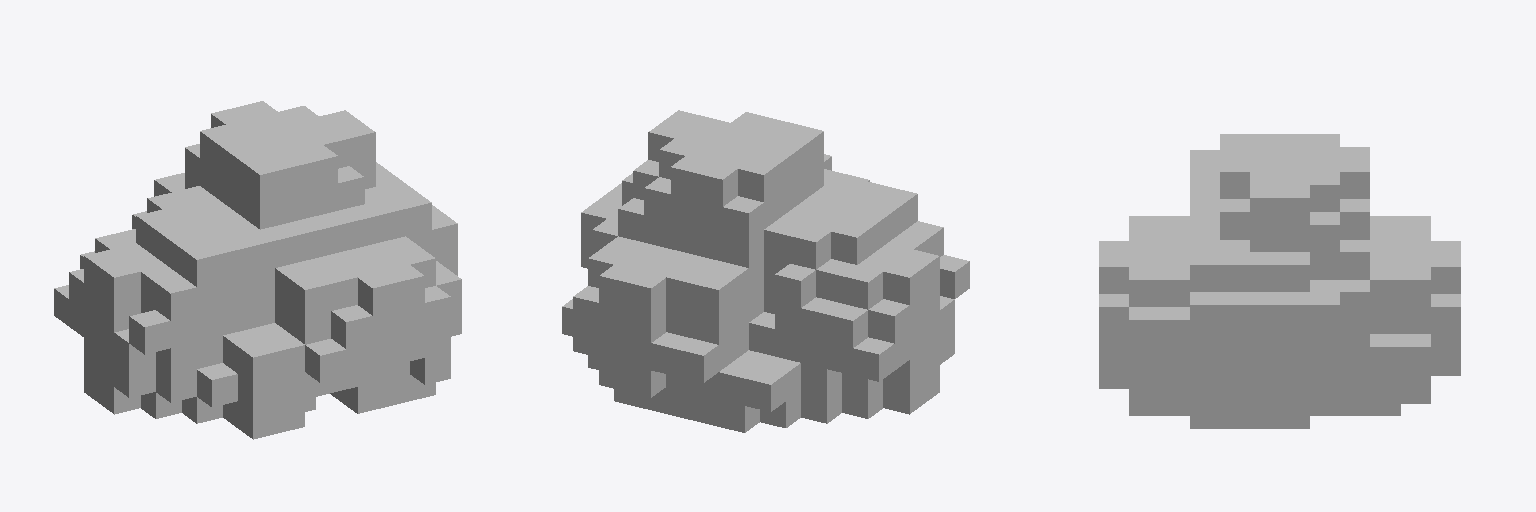
The model's file is boulder.obj.
3 renders of one model, left to right at view 1: azimuth 30°, elevation 25°; view 2: azimuth 150°, elevation 25°; view 3: azimuth 270°, elevation 25°, orthographic.
Visible parts, largest first — view 1: object 1; view 2: object 1; view 3: object 1.
Part boxes in pixels (x1,y1,x2,y2): object 1: (54, 101, 461, 439); object 1: (562, 110, 969, 432); object 1: (1099, 134, 1460, 428).
Bounding box in the file's own units: 1.2 × 0.8 × 1.2.